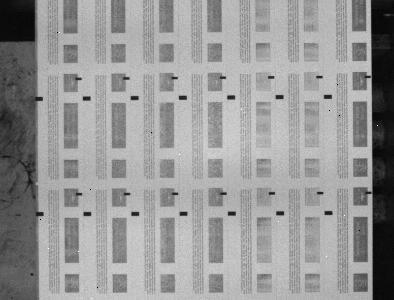backgroundclutter: (30, 273, 34, 276)
qblock: (131, 211, 140, 216), (324, 94, 333, 99), (179, 95, 187, 100), (180, 211, 188, 216), (35, 96, 43, 101), (325, 210, 333, 215), (228, 95, 236, 99), (36, 212, 44, 216), (131, 96, 139, 100), (276, 95, 284, 99), (83, 212, 91, 216), (83, 96, 91, 100), (228, 211, 236, 215), (277, 211, 285, 215)
smallqblock: (76, 192, 83, 196), (365, 75, 372, 78), (269, 192, 276, 195), (220, 76, 227, 79), (172, 192, 179, 195), (123, 77, 130, 80), (75, 77, 82, 80), (268, 76, 275, 79), (317, 191, 324, 194), (172, 76, 178, 79), (221, 192, 227, 195), (366, 191, 372, 194), (124, 192, 130, 195), (317, 75, 323, 78)
